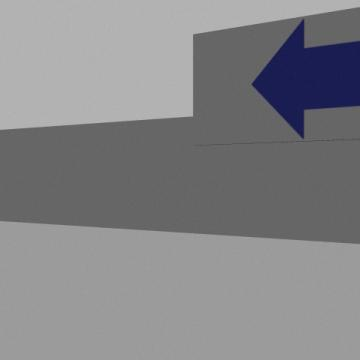blue_left: (252, 20, 359, 138)
